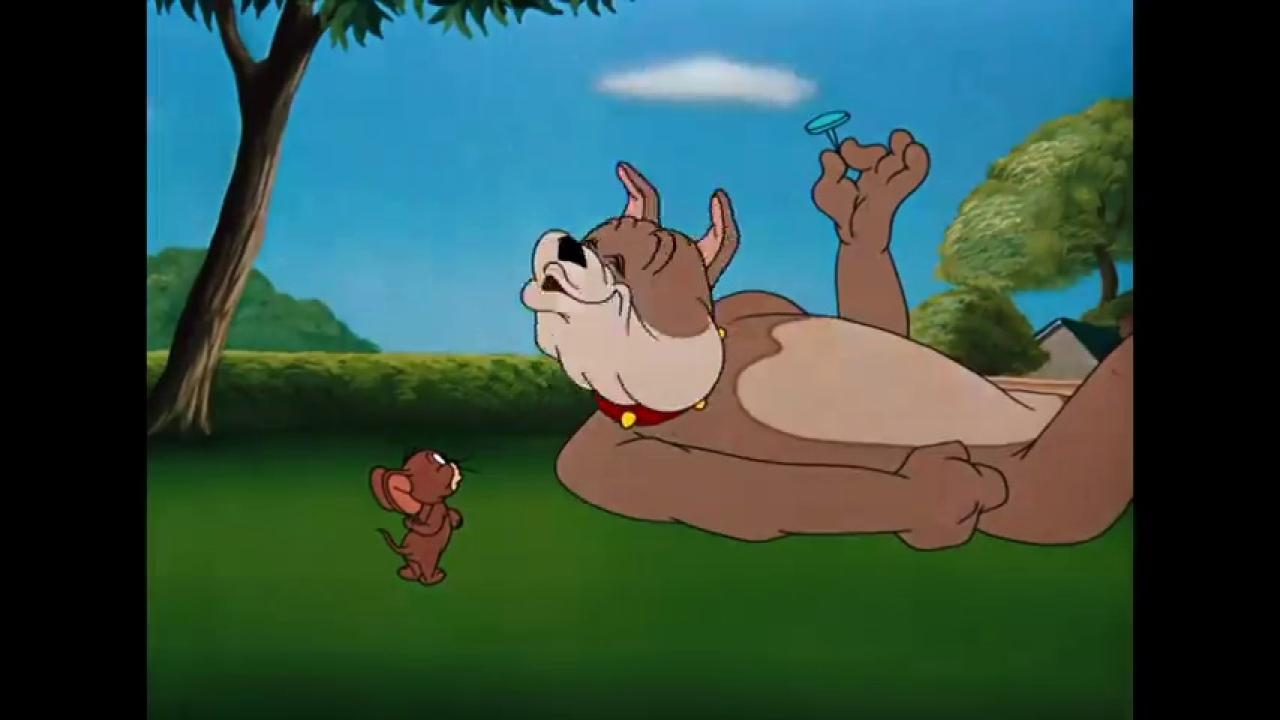Jerry: (366, 443, 484, 589)
